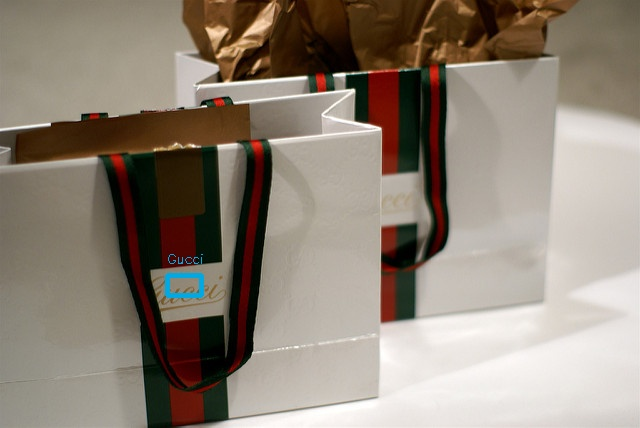Gucci: (150, 268, 230, 310)
